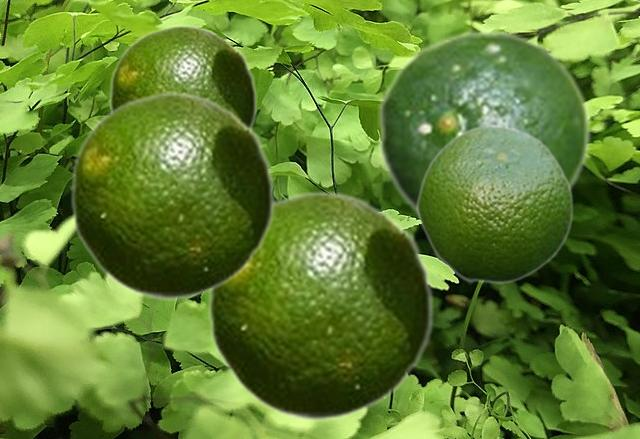calamansi: (206, 190, 434, 420), (69, 91, 275, 299), (377, 29, 591, 223), (415, 123, 573, 283), (108, 24, 257, 128)
